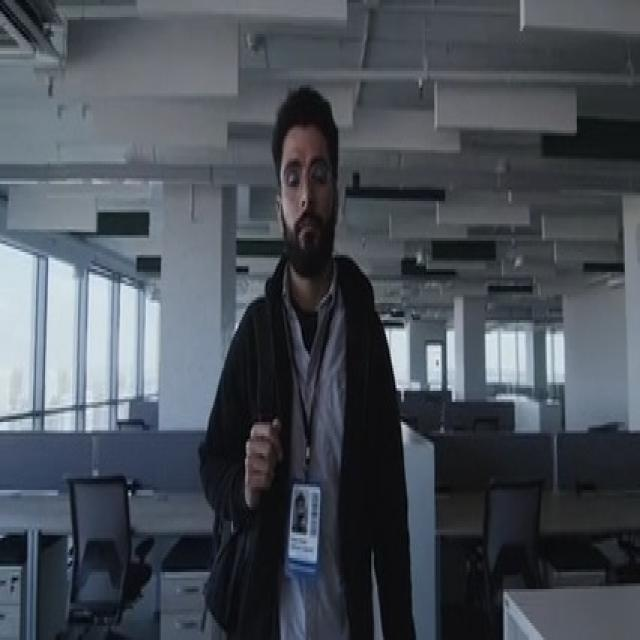Jacket_Wearer: (206, 244, 415, 640)
Person: (195, 84, 416, 640)
